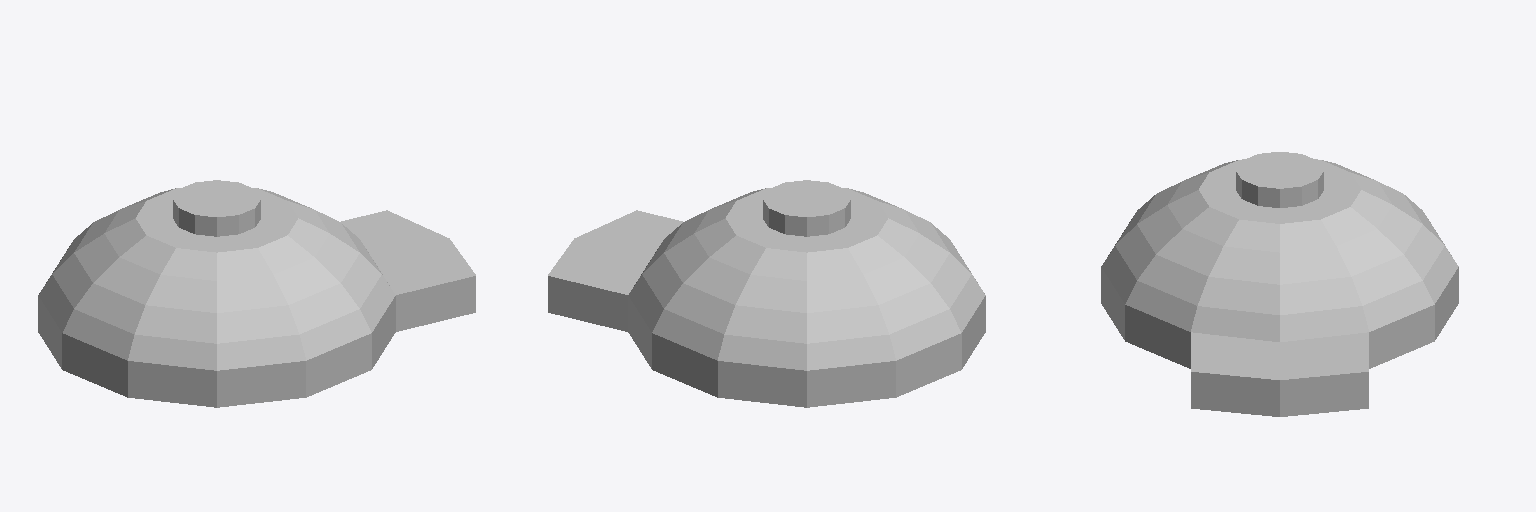
The model's file is Kitchen_fire_alarm.obj.
3 views of the same model, side by side, from view 1: azimuth 30°, elevation 25°; view 2: azimuth 150°, elevation 25°; view 3: azimuth 270°, elevation 25° (orthographic).
Parts seen in each view (by area): view 1: pCylinder1; view 2: pCylinder1; view 3: pCylinder1.
Part boxes in pixels (bbox=[...]): pCylinder1: bbox=[38, 180, 475, 407]; pCylinder1: bbox=[548, 180, 985, 407]; pCylinder1: bbox=[1101, 152, 1458, 416].
Size of the model in its own units: 9.99 by 3.29 by 7.98.